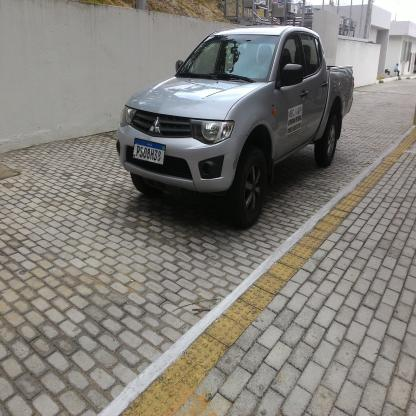PlacaM: (132, 138, 166, 166)
